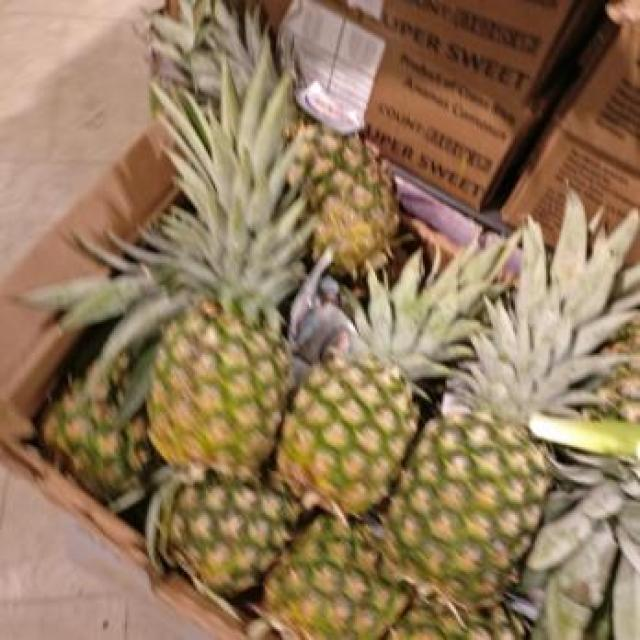pineapple: (384, 195, 640, 609), (121, 48, 312, 482), (278, 239, 513, 515), (289, 101, 399, 276), (265, 515, 411, 640), (169, 475, 300, 597), (42, 379, 150, 509), (151, 0, 270, 106), (382, 596, 525, 639)
